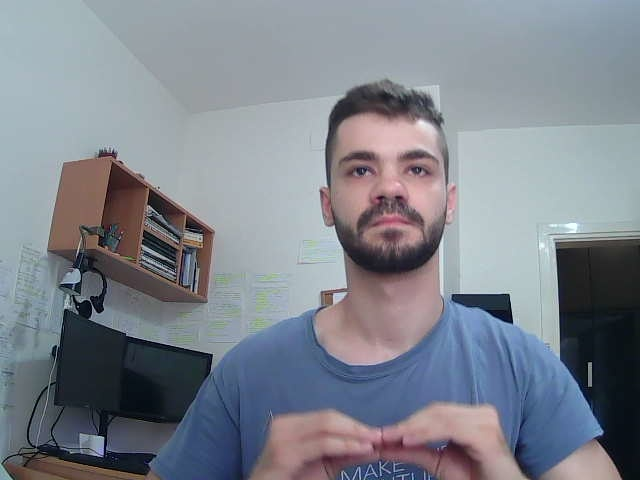b: (256, 389, 523, 480)
